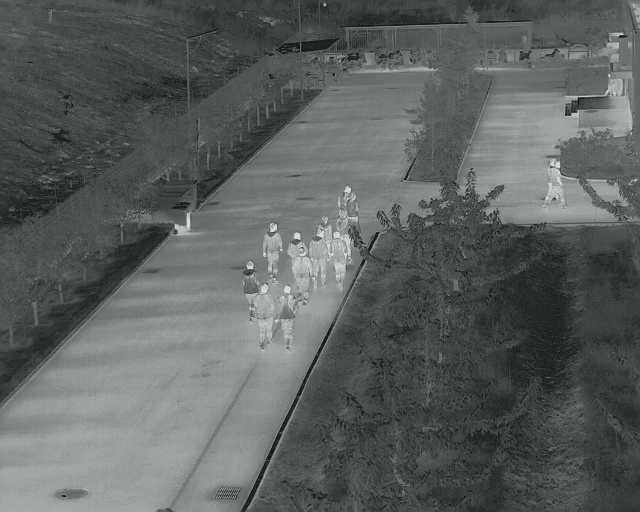person: (250, 283, 276, 349), (276, 284, 299, 351), (541, 157, 567, 210), (262, 222, 283, 282), (338, 184, 362, 235), (328, 230, 348, 291), (309, 229, 329, 288), (241, 259, 258, 319), (291, 247, 311, 297)
